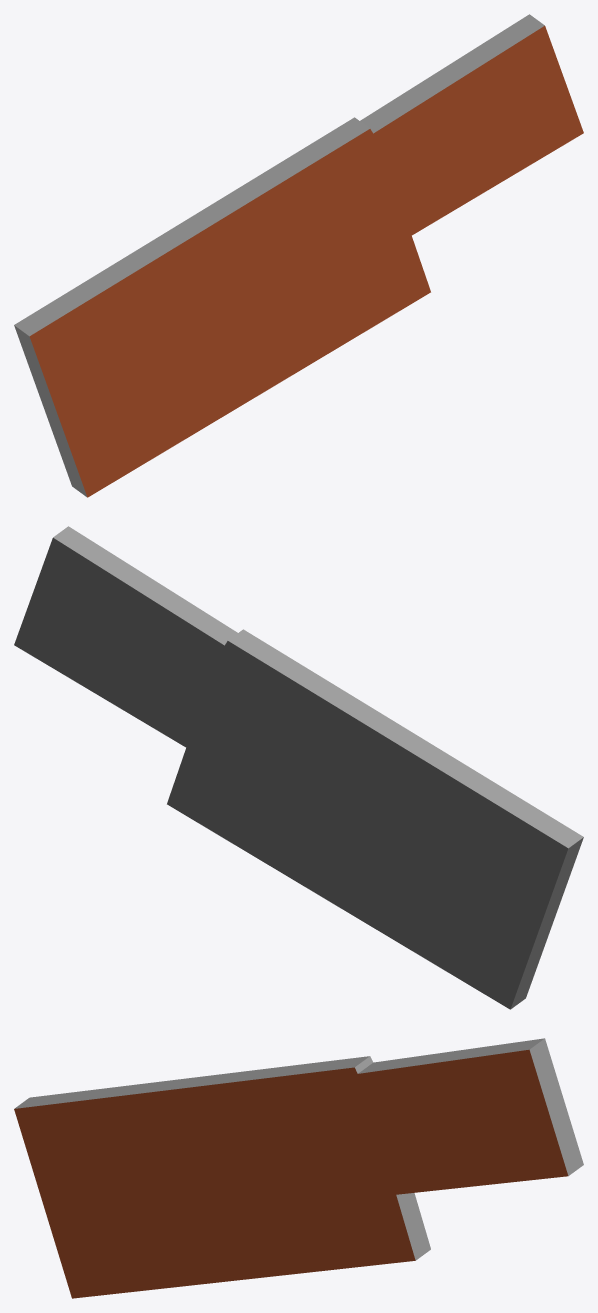
The model's file is construction_0162_assumed_A_Grande_construcao_h6m.obj.
3 renders of one model, top to bottom at view 1: azimuth 30°, elevation 25°; view 2: azimuth 150°, elevation 25°; view 3: azimuth 330°, elevation 25°, orthographic.
Parts seen in each view (by area): view 1: construction_0162_assumed_A_Grande_construcao; view 2: construction_0162_assumed_A_Grande_construcao; view 3: construction_0162_assumed_A_Grande_construcao.
Part boxes in pixels (x1,y1,x2,y2): construction_0162_assumed_A_Grande_construcao: [14, 14, 583, 497]; construction_0162_assumed_A_Grande_construcao: [14, 526, 583, 1009]; construction_0162_assumed_A_Grande_construcao: [14, 1038, 583, 1298].
Bounding box in the file's own units: 124 × 76.88 × 6.
